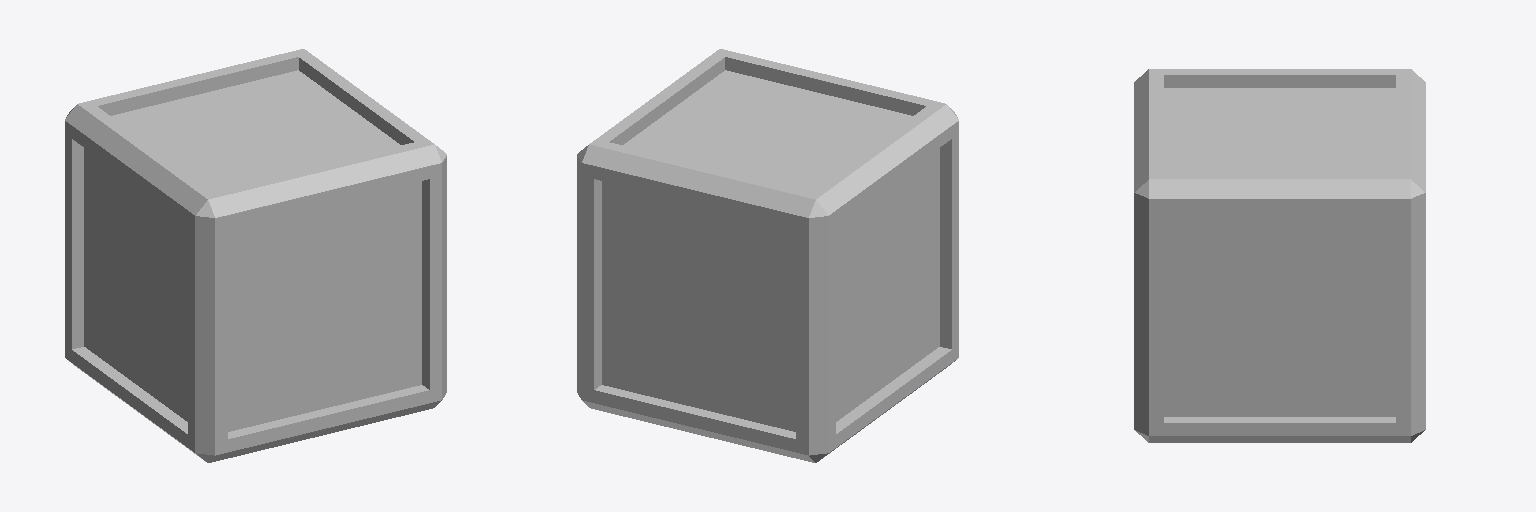
File: weighted_cube.obj
3 renders of one model, left to right at view 1: azimuth 30°, elevation 25°; view 2: azimuth 150°, elevation 25°; view 3: azimuth 270°, elevation 25°, orthographic.
Parts seen in each view (by area): view 1: Cube.003; view 2: Cube.003; view 3: Cube.003.
Part boxes in pixels (x1,y1,x2,y2): Cube.003: (65, 49, 446, 462); Cube.003: (577, 49, 958, 462); Cube.003: (1134, 69, 1425, 442).
Bounding box in the file's own units: 1 × 1 × 1.